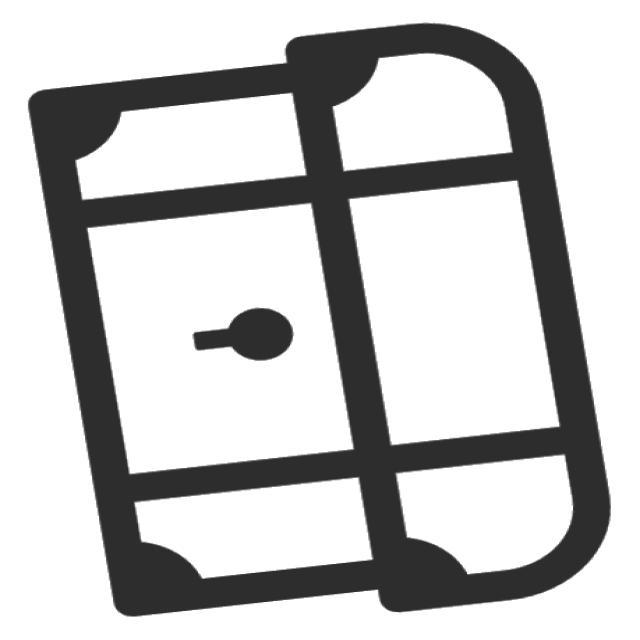treasure_box: (23, 9, 623, 629)
